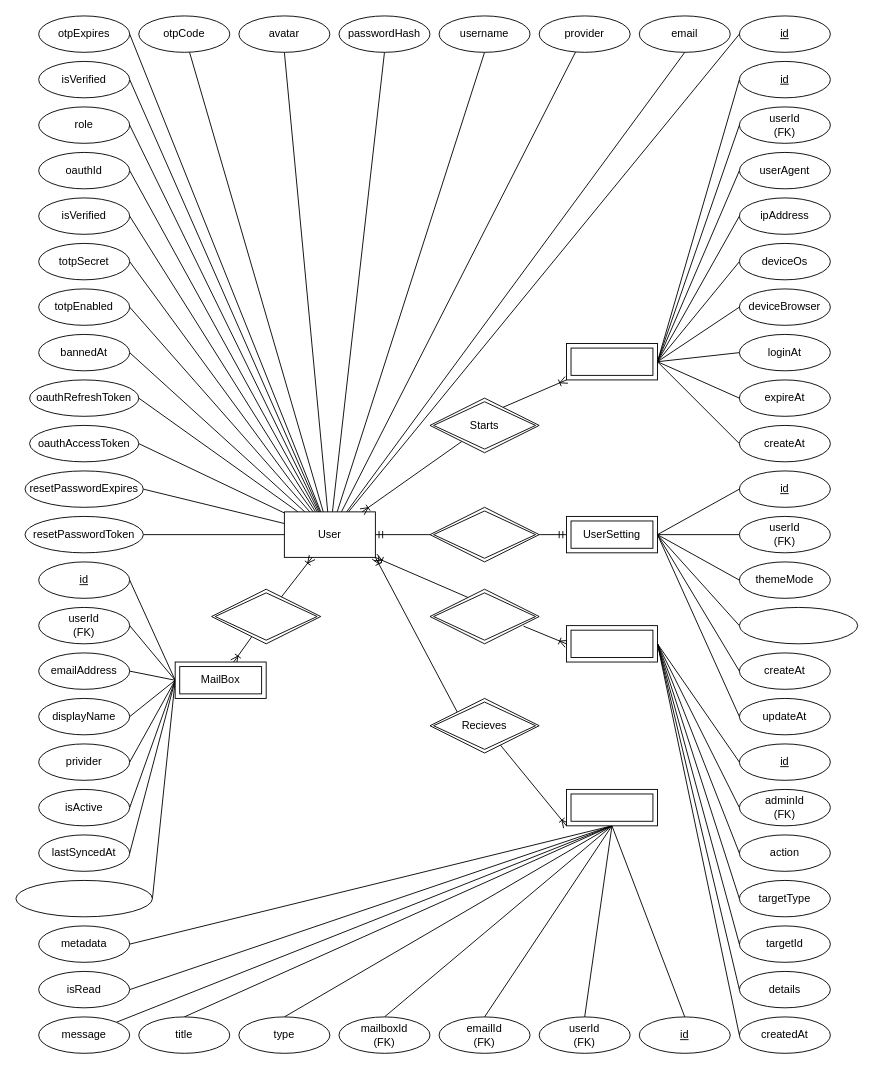
Some shapes in this 874 by 1069 pixel diagram are drawn without their labels. Each missing label, with the centre of its shape:
AuditLog: point (611, 643)
Has: point (484, 534)
Notification: point (611, 807)
notificationsEnabled: point (798, 625)
Own: point (266, 616)
Performs: point (484, 616)
pushNotificationsEnabled: point (83, 898)
UserSession: point (611, 361)
